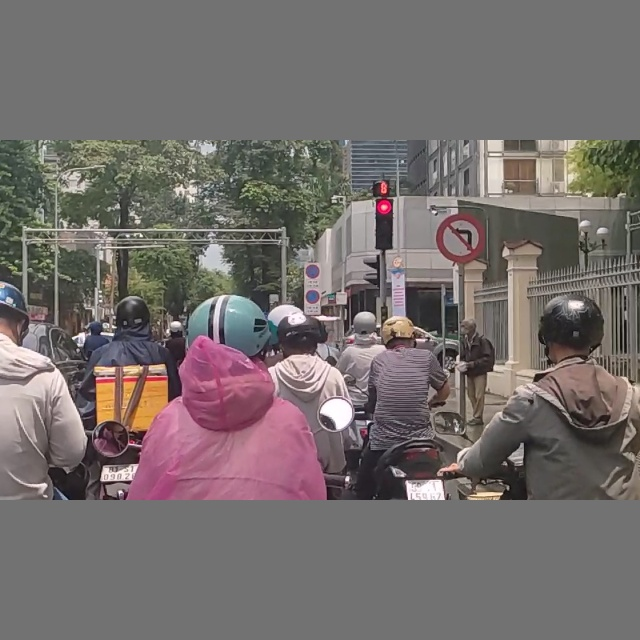P.123a: (437, 209, 487, 263)
P.130: (305, 263, 319, 279)
P.131a: (305, 289, 320, 305)
